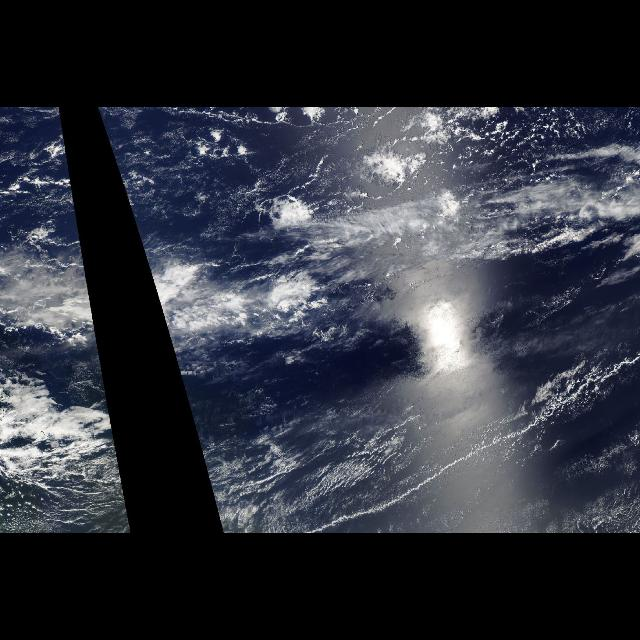Gravel: (180, 120, 452, 222)
Sugar: (226, 416, 550, 526)
